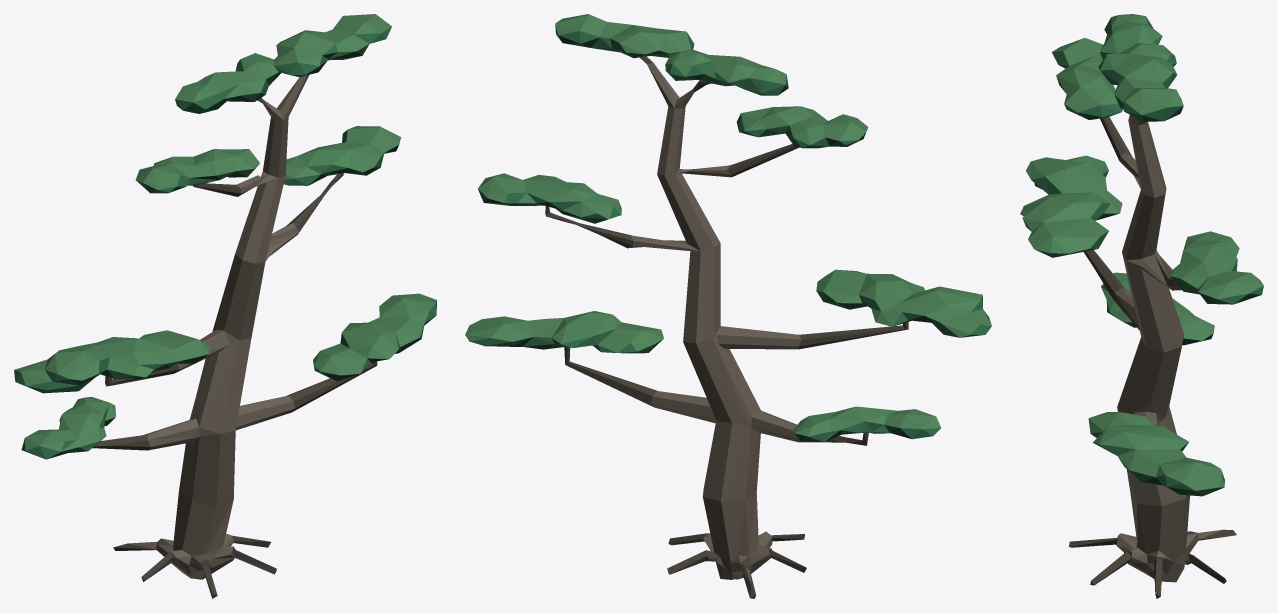
The model's file is ancient-pine-4110-lod2.glb.
The picture shows the model from 3 angles, left to right: view 1: azimuth 30°, elevation 25°; view 2: azimuth 150°, elevation 25°; view 3: azimuth 270°, elevation 25°; orthographic projection. The views are drawn at different scales.
Visible parts, largest first — view 1: n12.006, n8.006, n9.006, n11.006, n10.006; view 2: n12.006, n8.006, n11.006, n9.006, n10.006; view 3: n12.006, n8.006, n11.006, n9.006, n10.006.
Part boxes in pixels (left/top/right/bottom): n12.006: left=14, top=14, right=436, bottom=451; n8.006: left=128, top=75, right=309, bottom=579; n9.006: left=92, top=97, right=377, bottom=598; n11.006: left=14, top=27, right=436, bottom=459; n10.006: left=20, top=44, right=435, bottom=459; n12.006: left=465, top=14, right=991, bottom=436; n8.006: left=628, top=62, right=801, bottom=583; n11.006: left=470, top=25, right=991, bottom=441; n9.006: left=545, top=56, right=908, bottom=598; n10.006: left=484, top=34, right=982, bottom=441; n12.006: left=1020, top=14, right=1263, bottom=490; n8.006: left=1114, top=115, right=1221, bottom=582; n11.006: left=1031, top=17, right=1263, bottom=490; n9.006: left=1069, top=117, right=1236, bottom=598; n10.006: left=1020, top=53, right=1260, bottom=496.
Size of the model in its own units: 5.12 by 5.43 by 2.09.
